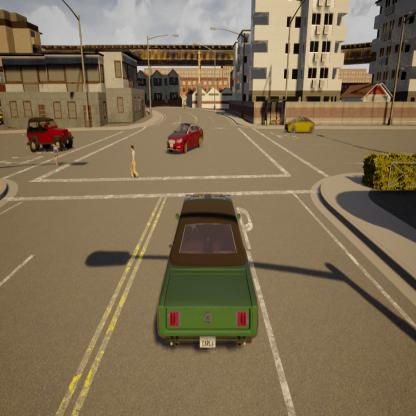Cars: (158, 196, 258, 348), (29, 118, 72, 152), (167, 122, 203, 152), (286, 115, 315, 135), (184, 98, 186, 108)
Pedestrian: (130, 143, 140, 180), (52, 140, 60, 169)
